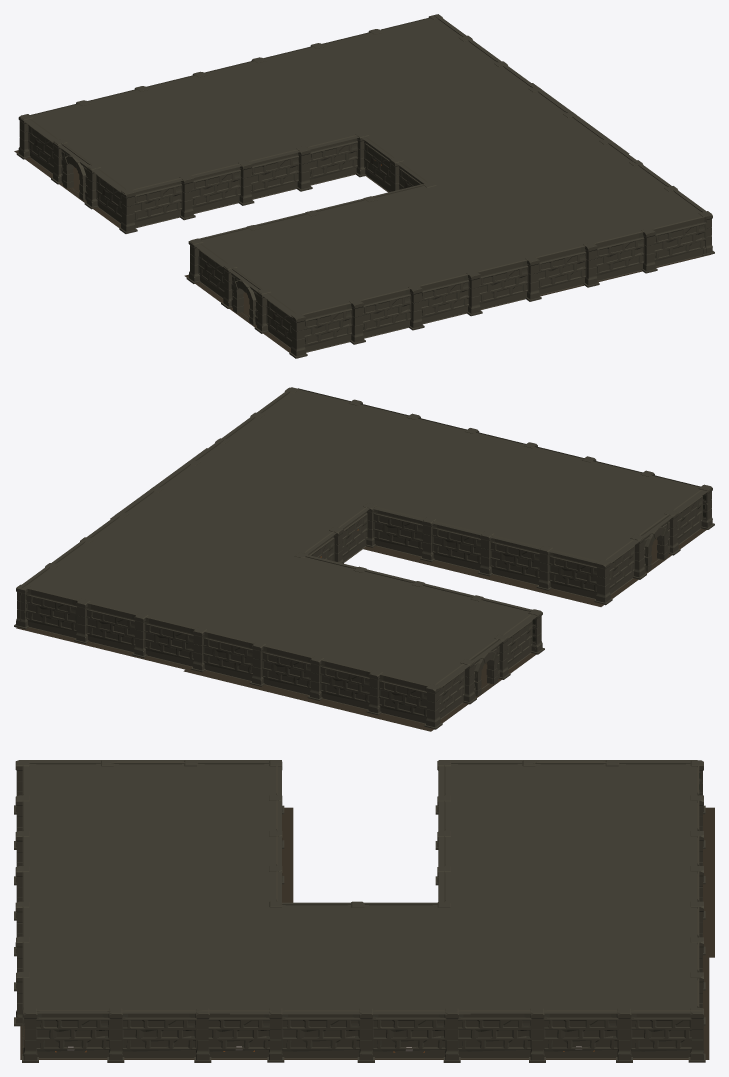
Rendered from 6komnata1lvl.fbx.
The picture shows the model from 3 angles, top to bottom: view 1: azimuth 30°, elevation 25°; view 2: azimuth 150°, elevation 25°; view 3: azimuth 270°, elevation 25°; orthographic projection. The views are drawn at different scales.
Parts seen in each view (by area): view 1: криша2.003, Plane.296, Plane.294, Plane.293, Plane.292, Plane.291, Plane.289, Plane.295, Plane.269, Plane.268, Plane.267, Plane.270 (+10 smaller); view 2: криша2.003, Plane.302, Plane.271, Plane.263, Plane.262, Plane.264, Plane.266, Plane.265, Plane.288, Plane.261, Plane.287, Plane.290 (+10 smaller); view 3: криша2.003, Plane.302, Plane.276, Plane.273, Plane.298, Plane.274, Plane.299, Plane.275, Plane.272, Plane.277, Cube.276, Cube.252 (+7 smaller).
Boxes of the visible parts, x1,y1,x2,y2 form: криша2.003: (20,18,711,317); Plane.296: (652,216,706,266); Plane.294: (477,259,528,309); Plane.293: (360,288,411,338); Plane.292: (302,302,352,352); Plane.291: (594,231,644,280); Plane.289: (536,245,586,295); Plane.295: (419,274,469,323); Plane.269: (307,135,357,184); Plane.268: (190,163,240,213); Plane.267: (132,178,182,227); Plane.270: (249,149,298,199); криша2.003: (22,387,710,688); Plane.302: (16,528,706,731); Plane.271: (26,588,77,638); Plane.263: (203,631,253,681); Plane.262: (320,660,370,709); Plane.264: (144,617,194,666); Plane.266: (86,603,136,652); Plane.265: (262,645,312,695); Plane.288: (373,507,423,556); Plane.261: (379,674,428,723); Plane.287: (490,535,540,585); Plane.290: (432,521,482,571); криша2.003: (23,760,697,1014); Plane.302: (20,807,714,1059); Plane.276: (281,1010,360,1058); Plane.273: (543,1010,618,1058); Plane.298: (121,1010,196,1058); Plane.274: (457,1010,531,1058); Plane.299: (36,1010,110,1058); Plane.275: (372,1010,446,1058); Plane.272: (630,1010,703,1058); Plane.277: (198,1010,271,1058); Cube.276: (22,1008,38,1062); Cube.252: (616,1008,632,1062).
Size of the model in its own units: 8968 by 844 by 10407.
